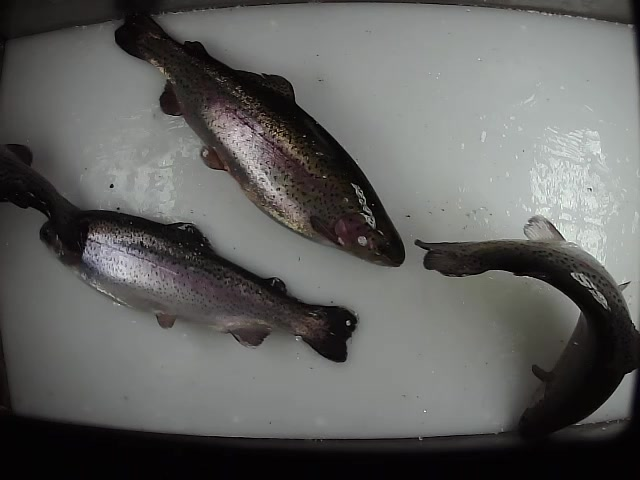Fish: (113, 12, 405, 266), (413, 214, 636, 436), (40, 207, 357, 363)
